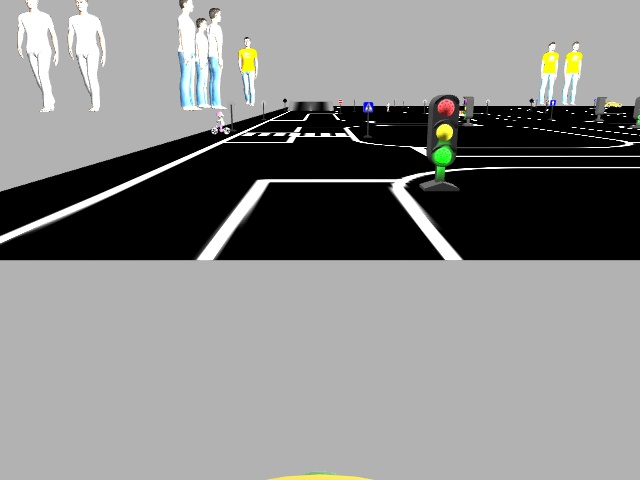Crosswalk: (363, 100, 371, 111)
Pedestrian: (210, 110, 229, 133)
TrafficLight: (426, 93, 457, 165)
